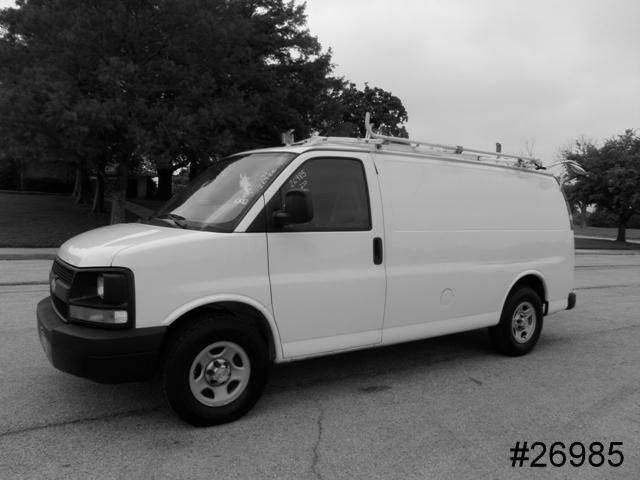car: (30, 110, 578, 431)
